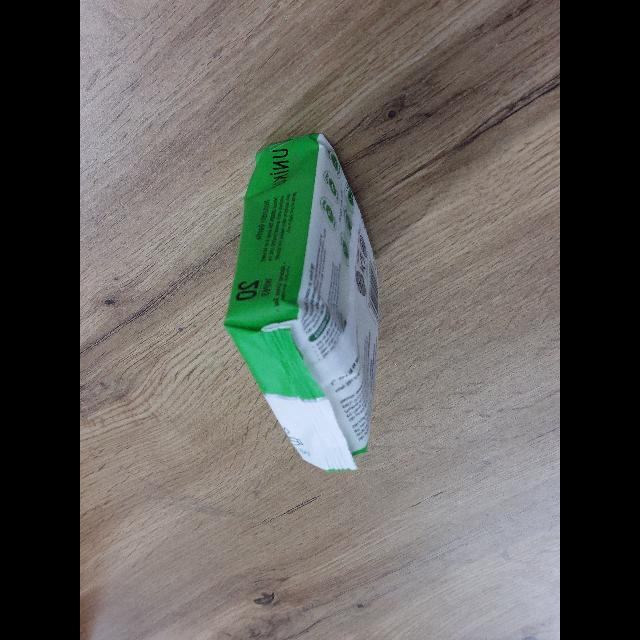khan_giay: (225, 135, 378, 471)
